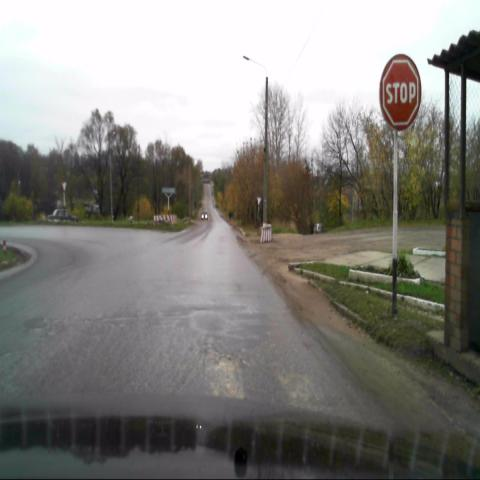2_5: (380, 53, 421, 130)
